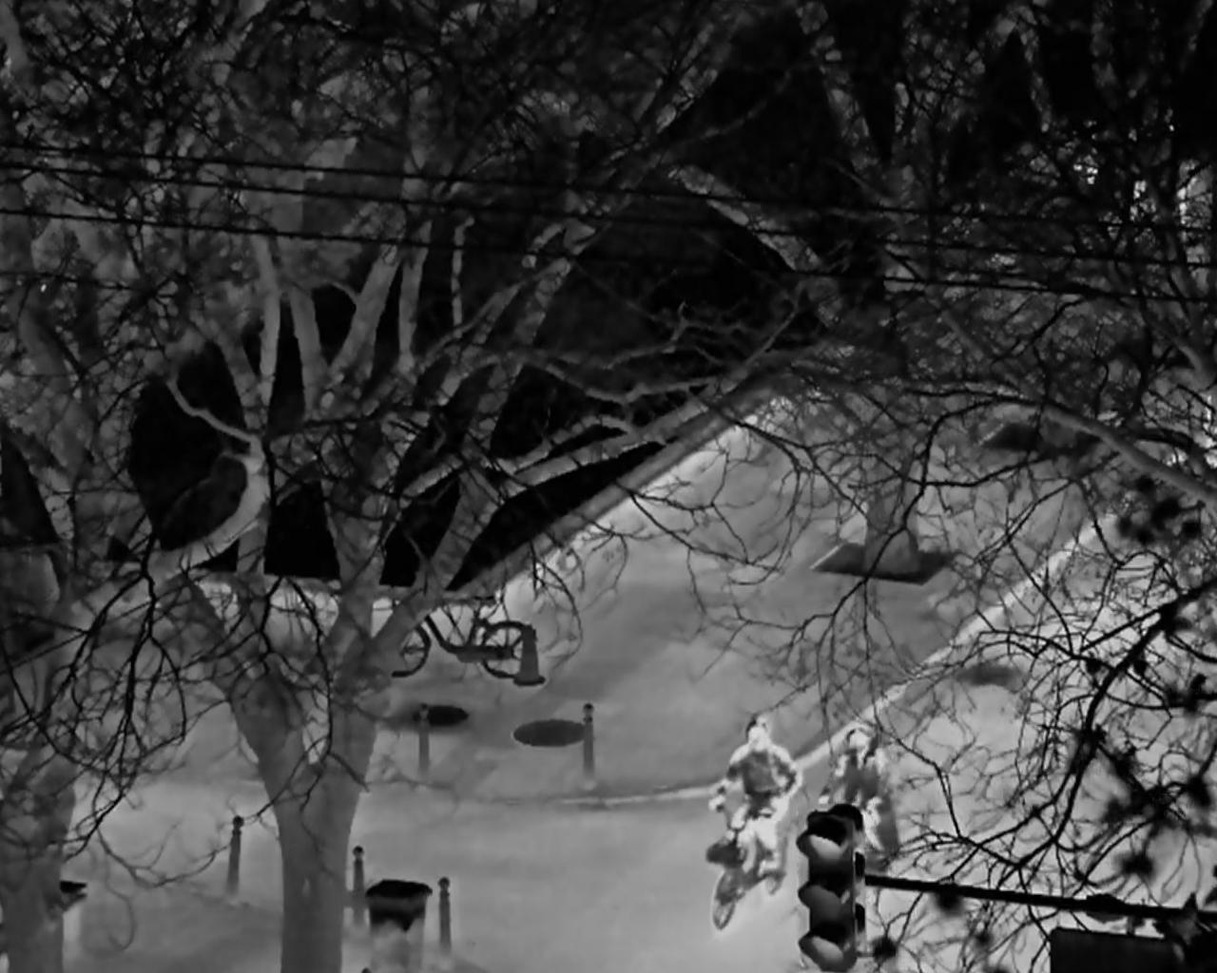person: (708, 710, 801, 877), (819, 723, 894, 858)
